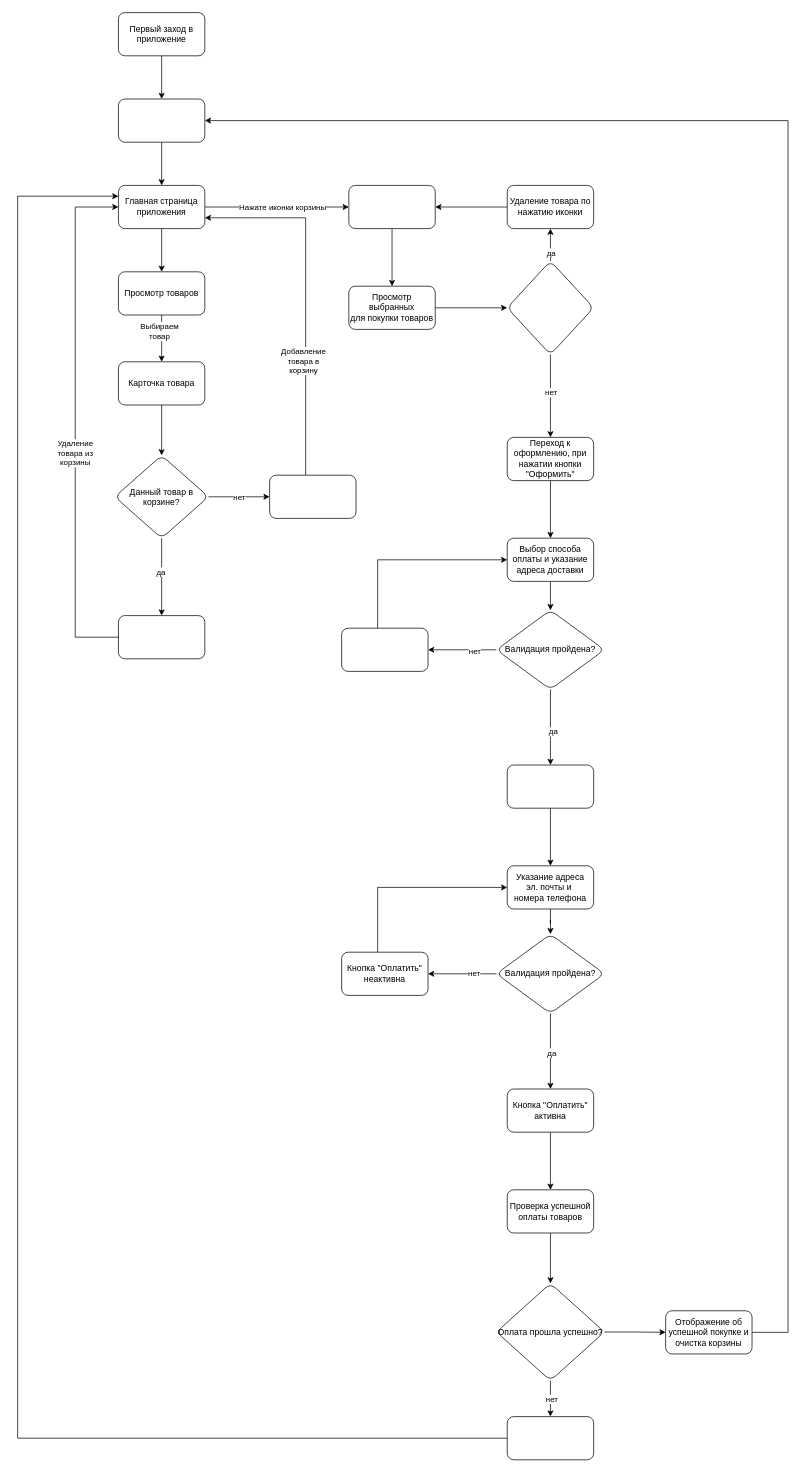
The diagram is 806 pixels wide and 1472 high, and some of its shapes have lost their labels. The shapes that lost their labels are listed below. From the top down, each one's centre as x and y in pixels, then its label:
the point at 161,120: Получение данных с сервера
the point at 391,207: Корзина
the point at 550,307: Имеется лишний товар в корзине?
the point at 312,496: Возможность купить данный товар
the point at 161,637: Возможность убрать данный товар из корзины
the point at 384,649: Кнопка "Далее" неактивна
the point at 550,786: Кнопка "Далее" активна
the point at 550,1438: Отображение ошибки и очистка корзины
